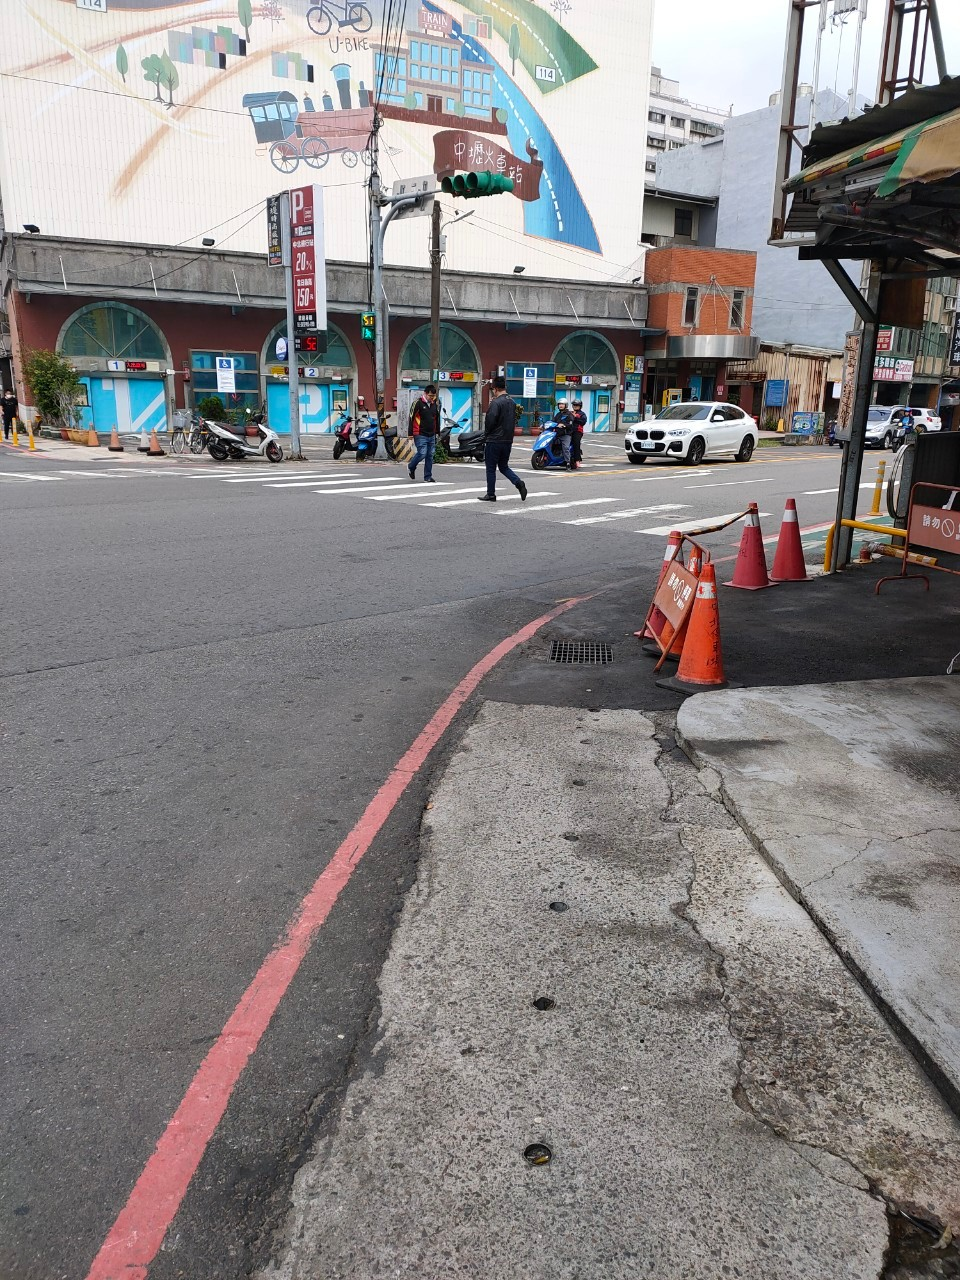people: (481, 370, 538, 519), (399, 376, 438, 486), (544, 396, 572, 447), (572, 394, 587, 465)
